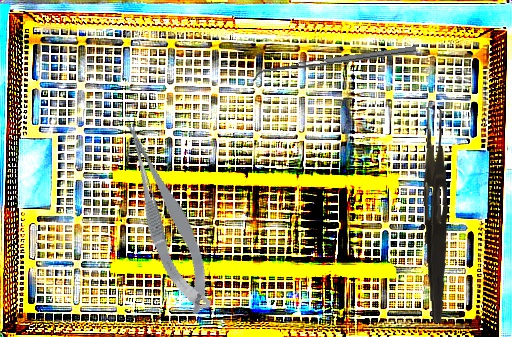Dressing Forceps: (418, 106, 454, 324)
Micro Scissor: (118, 113, 218, 320)
Spatula Surgical: (251, 46, 418, 82)
